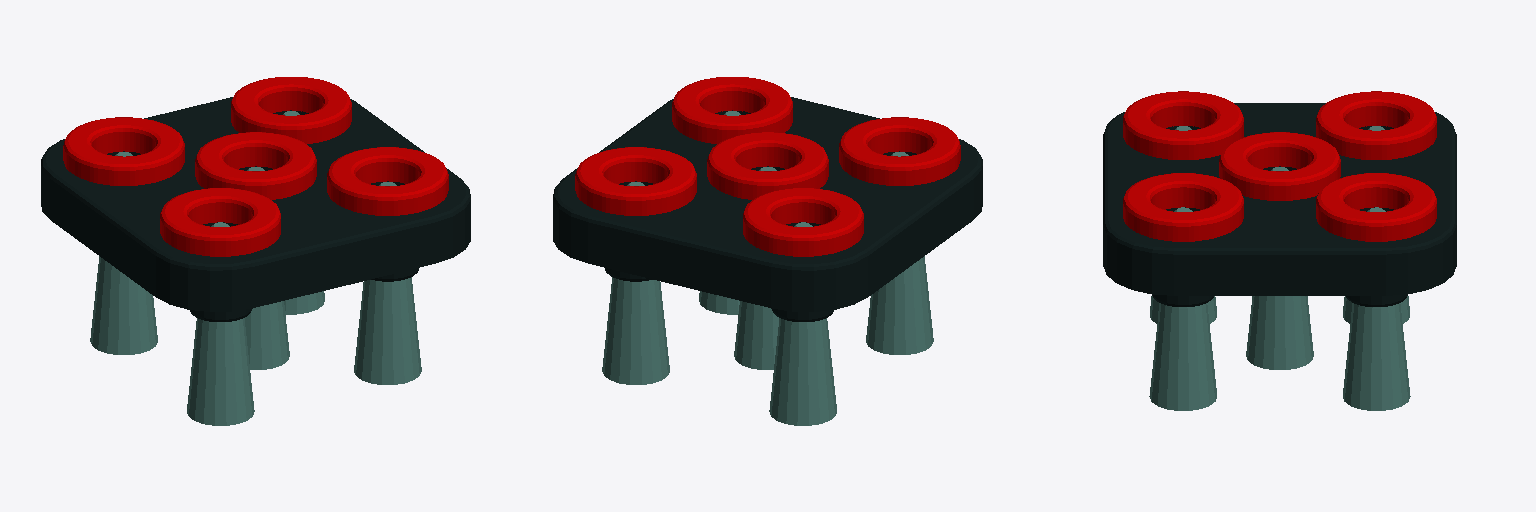
The model's file is trap_spike.obj.
The picture shows the model from 3 angles: view 1: azimuth 30°, elevation 25°; view 2: azimuth 150°, elevation 25°; view 3: azimuth 270°, elevation 25°; orthographic projection.
Visible parts, largest first — view 1: Cube, Circle, Circle.001; view 2: Cube, Circle, Circle.001; view 3: Cube, Circle, Circle.001.
Boxes of the visible parts, <box> form: Cube: <box>41,97,470,321</box>; Circle: <box>63,77,448,256</box>; Circle.001: <box>90,111,421,425</box>; Cube: <box>553,97,982,321</box>; Circle: <box>575,77,960,256</box>; Circle.001: <box>602,111,933,425</box>; Cube: <box>1103,103,1456,306</box>; Circle: <box>1123,91,1436,241</box>; Circle.001: <box>1149,126,1410,410</box>.
Bounding box in the file's own units: 1.83 × 1.14 × 1.83.